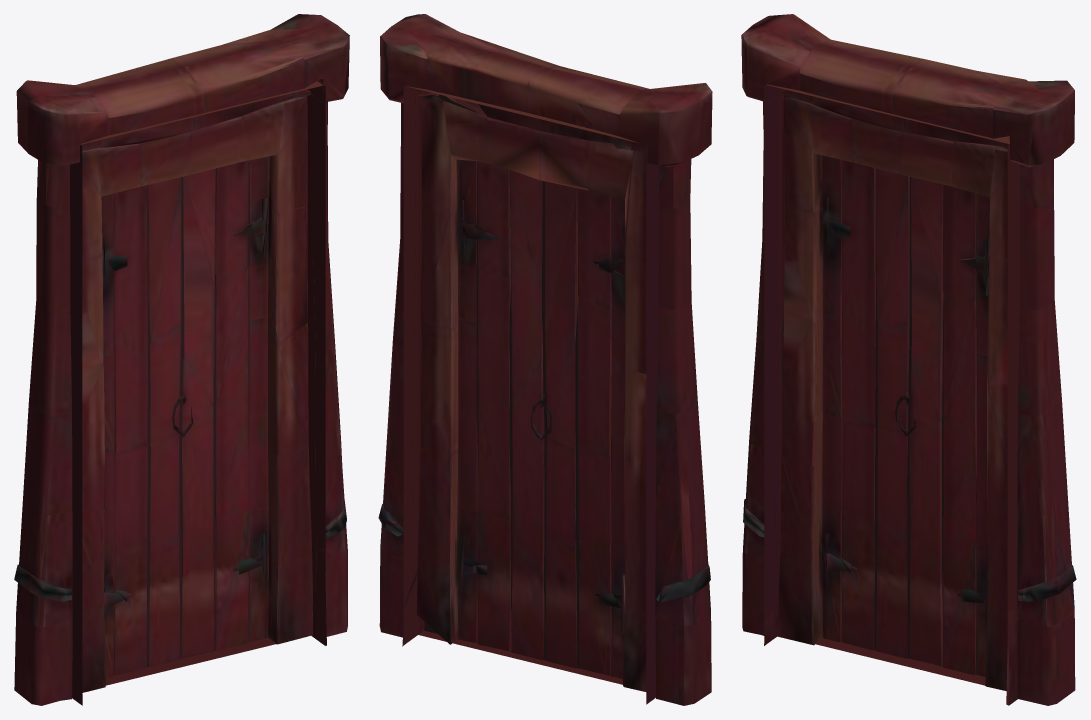
File: door-wood.lod1.glb
The picture shows the model from 3 angles, left to right: view 1: azimuth 30°, elevation 25°; view 2: azimuth 150°, elevation 25°; view 3: azimuth 330°, elevation 25°; orthographic projection.
Parts seen in each view (by area): view 1: Leaf, Frame; view 2: Leaf, Frame; view 3: Leaf, Frame.
Boxes of the visible parts, bbox=[...] form: Leaf: bbox=[81, 88, 312, 692]; Frame: bbox=[14, 14, 349, 705]; Leaf: bbox=[416, 89, 646, 691]; Frame: bbox=[378, 14, 712, 705]; Leaf: bbox=[777, 88, 1008, 690]; Frame: bbox=[741, 14, 1076, 705].
Bounding box in the file's own units: 1.3 × 2.35 × 0.329.
1 material, 1 textured.
